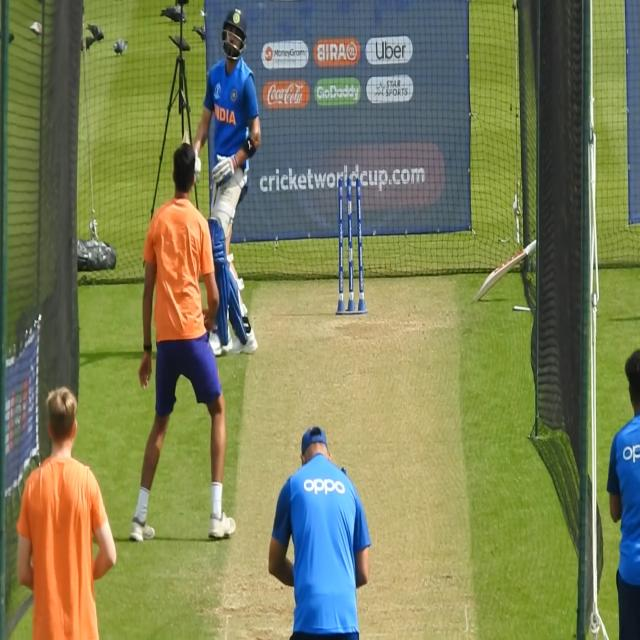stump: (334, 171, 366, 316)
